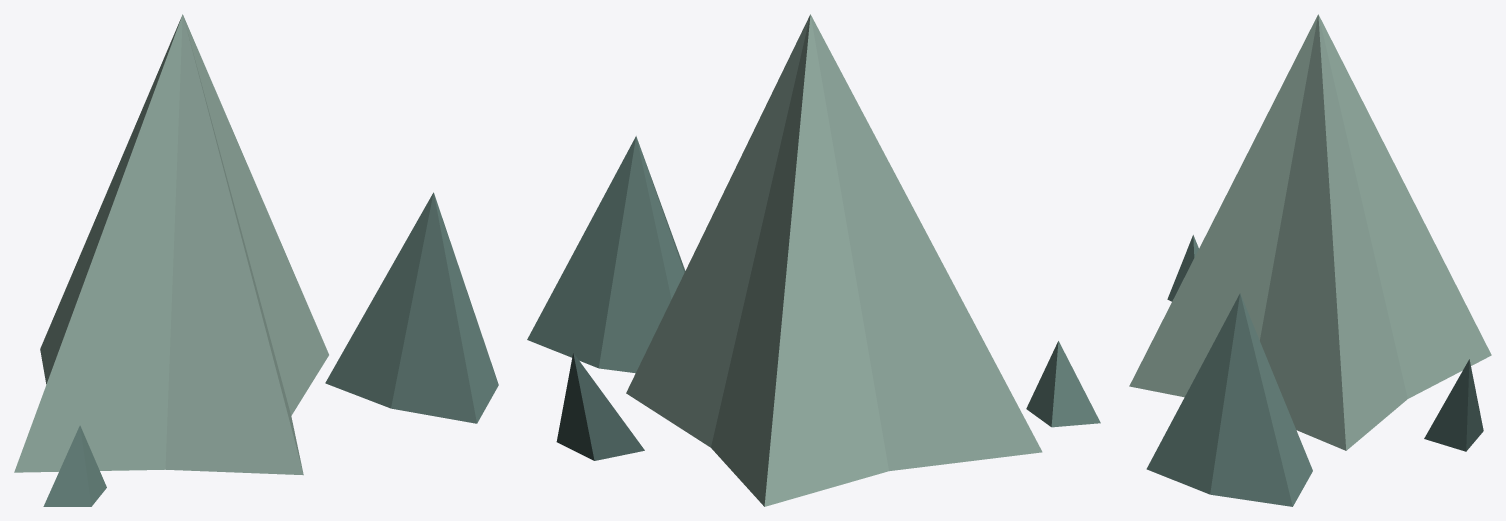
The model's file is glass_spire.glb.
3 views of the same model, side by side, from view 1: azimuth 30°, elevation 25°; view 2: azimuth 150°, elevation 25°; view 3: azimuth 270°, elevation 25° (orthographic). The views are drawn at different scales.
Visible parts, largest first — view 1: glass_spire; view 2: glass_spire; view 3: glass_spire.
Part boxes in pixels (x1,y1,x2,y2): glass_spire: (14,14,498,506); glass_spire: (527,14,1100,506); glass_spire: (1129,14,1491,506).
Size of the model in its own units: 10.16 by 7.7 by 6.96.
